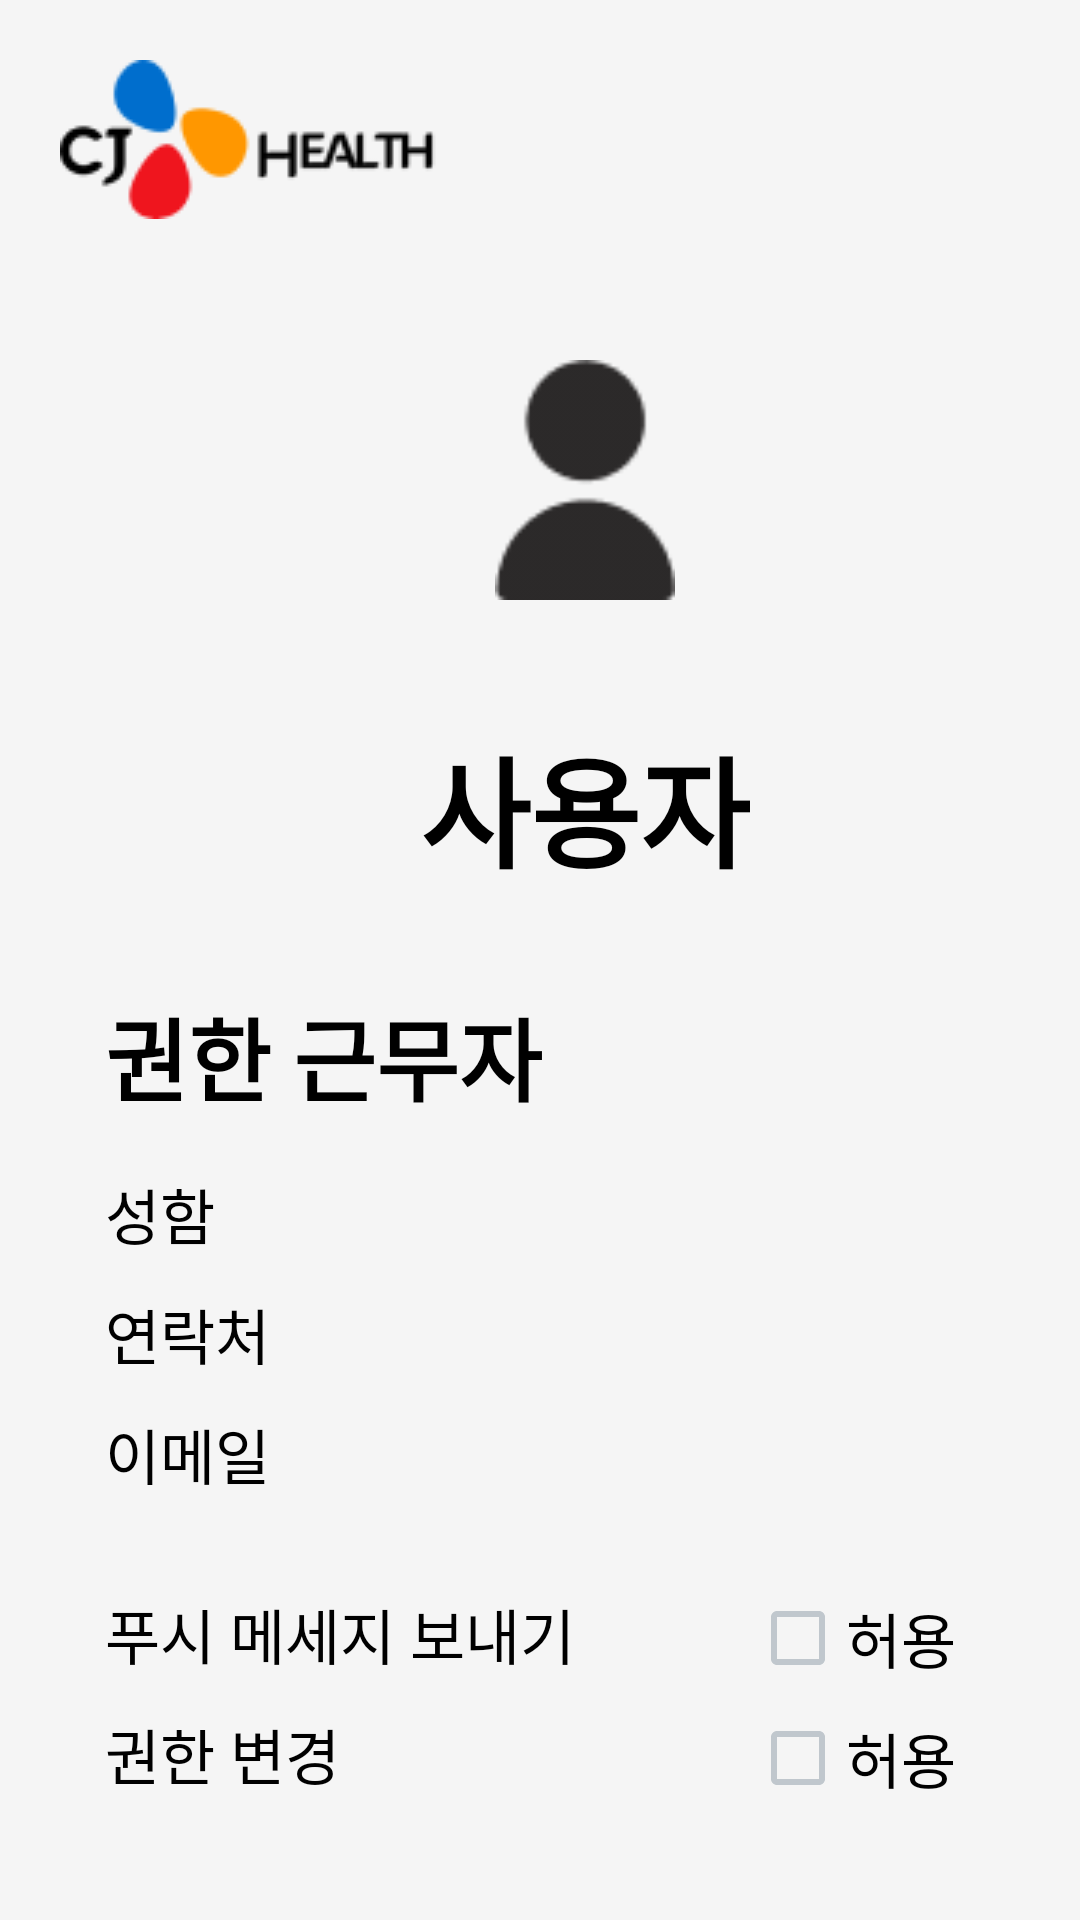

Where icons sit on this 1080×1920 app screen, as bbox=[x1, y1, x2, y2]:
person: bbox=[495, 360, 675, 600]
